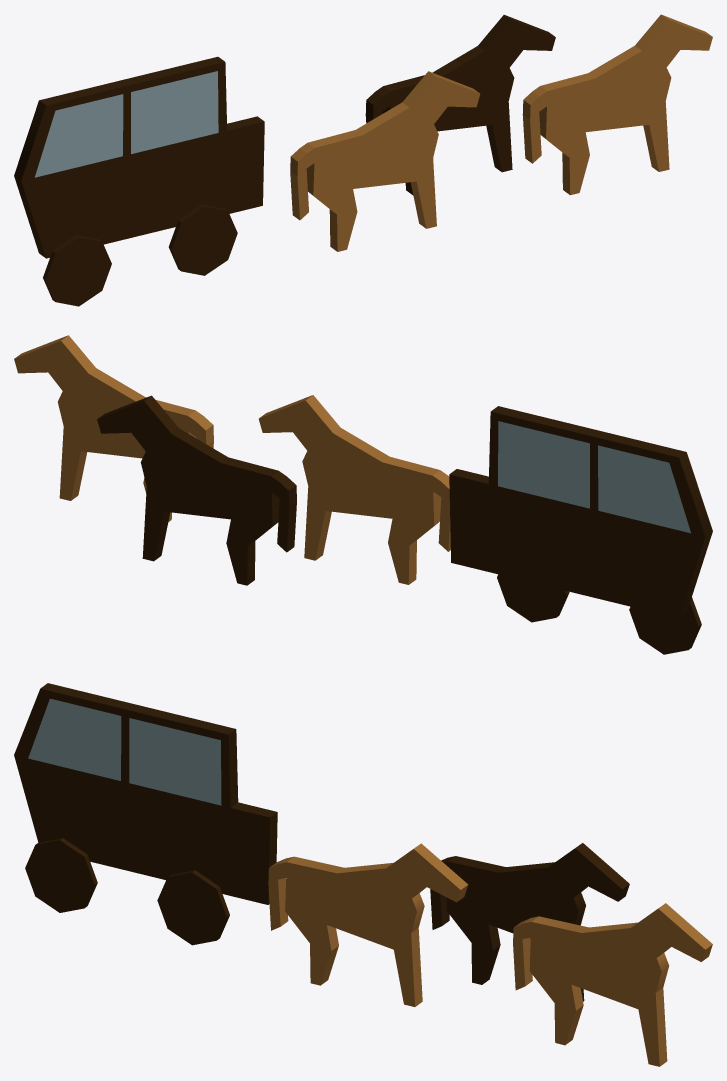
File: ProtoCarriage1.fbx
3 renders of one model, top to bottom at view 1: azimuth 30°, elevation 25°; view 2: azimuth 150°, elevation 25°; view 3: azimuth 330°, elevation 25°, orthographic. The views are drawn at different scales.
Visible parts, largest first — view 1: Carriage, Shape3Horse2, Shape3Horse, Shape3Horse1, Shape3Wheel1, Shape3Wheel; view 2: Carriage, Shape3Horse1, Shape3Horse, Shape3Horse2, Shape3Wheel, Shape3Wheel1; view 3: Carriage, Shape3Horse, Shape3Horse2, Shape3Horse1, Shape3Wheel1, Shape3Wheel.
Boxes of the visible parts, x1,y1,x2,y2 form: Carriage: (14,56,264,258); Shape3Horse2: (522,14,712,195); Shape3Horse: (290,71,480,251); Shape3Horse1: (365,15,555,195); Shape3Wheel1: (168,204,237,275); Shape3Wheel: (43,235,111,306); Carriage: (449,406,712,618); Shape3Horse1: (97,395,296,585); Shape3Horse: (259,395,450,584); Shape3Horse2: (14,335,213,521); Shape3Wheel: (629,597,701,654); Shape3Wheel1: (497,574,569,622); Carriage: (14,683,277,904); Shape3Horse: (268,843,468,1006); Shape3Horse2: (513,903,712,1066); Shape3Horse1: (430,843,629,1001); Shape3Wheel1: (157,870,229,945); Shape3Wheel: (25,838,97,912).
Bounding box in the file's own units: 129 × 36.84 × 15.3.
